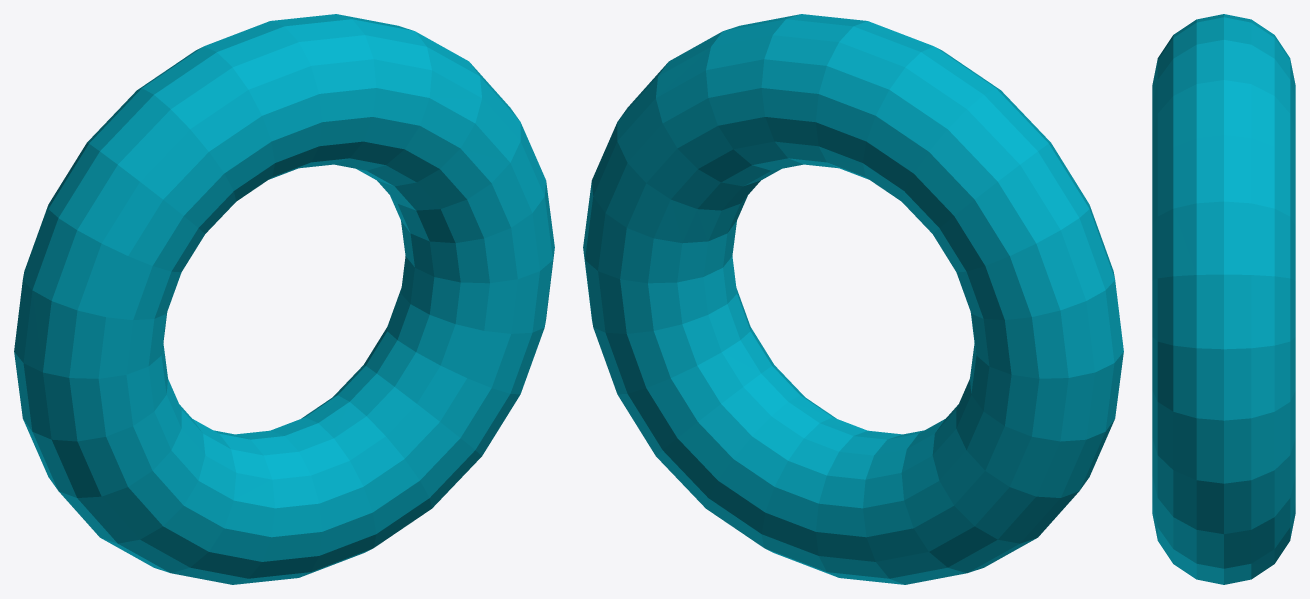
The picture shows the model from 3 angles, left to right: view 1: azimuth 30°, elevation 25°; view 2: azimuth 150°, elevation 25°; view 3: azimuth 270°, elevation 25°; orthographic projection. The views are drawn at different scales.
Visible parts, largest first — view 1: Mesh_Mesh_head_geo.001_lambert2SG.001; view 2: Mesh_Mesh_head_geo.001_lambert2SG.001; view 3: Mesh_Mesh_head_geo.001_lambert2SG.001.
Boxes of the visible parts, left/top/right/bottom form: Mesh_Mesh_head_geo.001_lambert2SG.001: left=14, top=14, right=554, bottom=584; Mesh_Mesh_head_geo.001_lambert2SG.001: left=583, top=14, right=1123, bottom=584; Mesh_Mesh_head_geo.001_lambert2SG.001: left=1152, top=14, right=1295, bottom=584.
Bounding box in the file's own units: 20 × 20 × 5.
